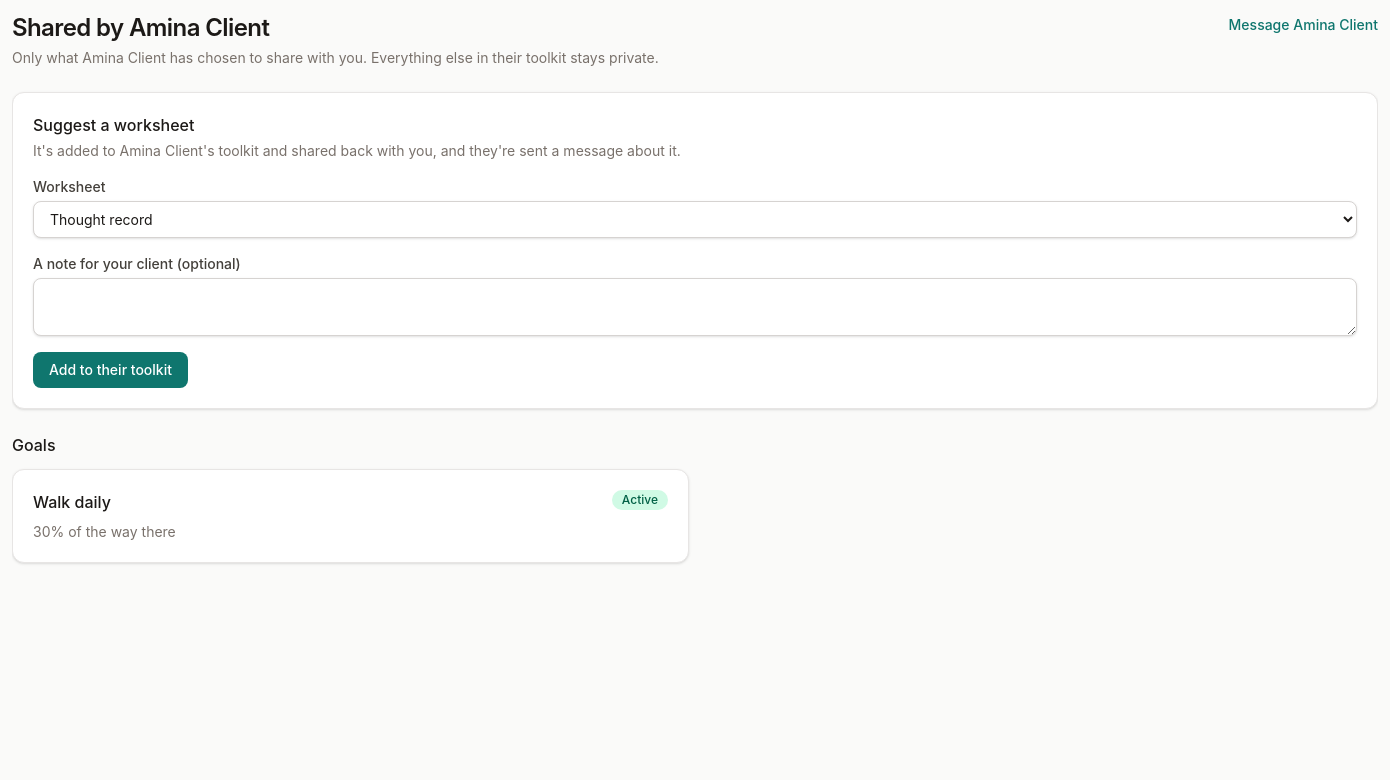
Scenario: ClientSharedPage › shows shared goals and lets the therapist suggest a worksheet
Expected: the text "Walk daily" is shown, [33,490,111,514]
Expected: the text "30% of the way there" is shown, [33,523,176,540]
Select "Sleep diary" in the dropdown labelled "Worksheet" at (695, 220), box [33,201,1357,238]
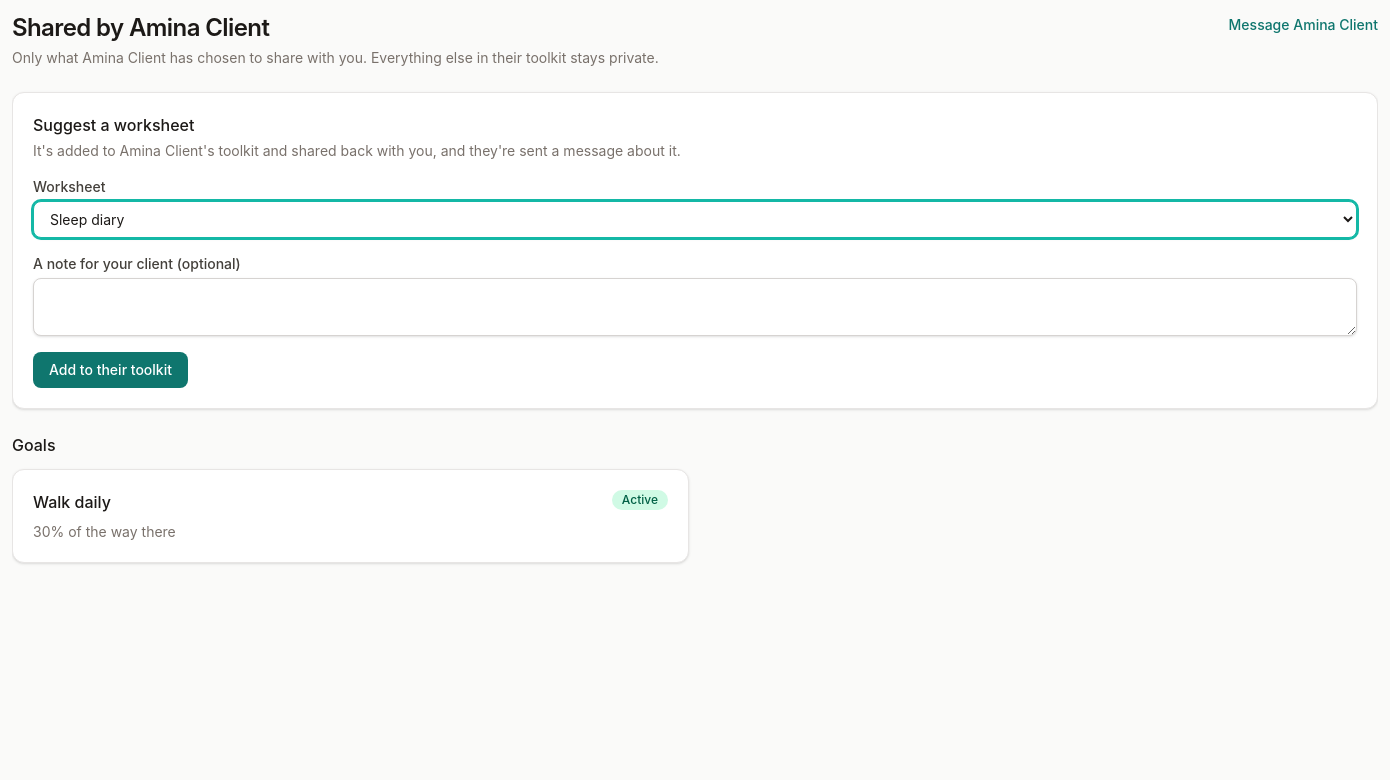
Click the button "Add to their toolkit" at (110, 370), box [33,352,188,388]
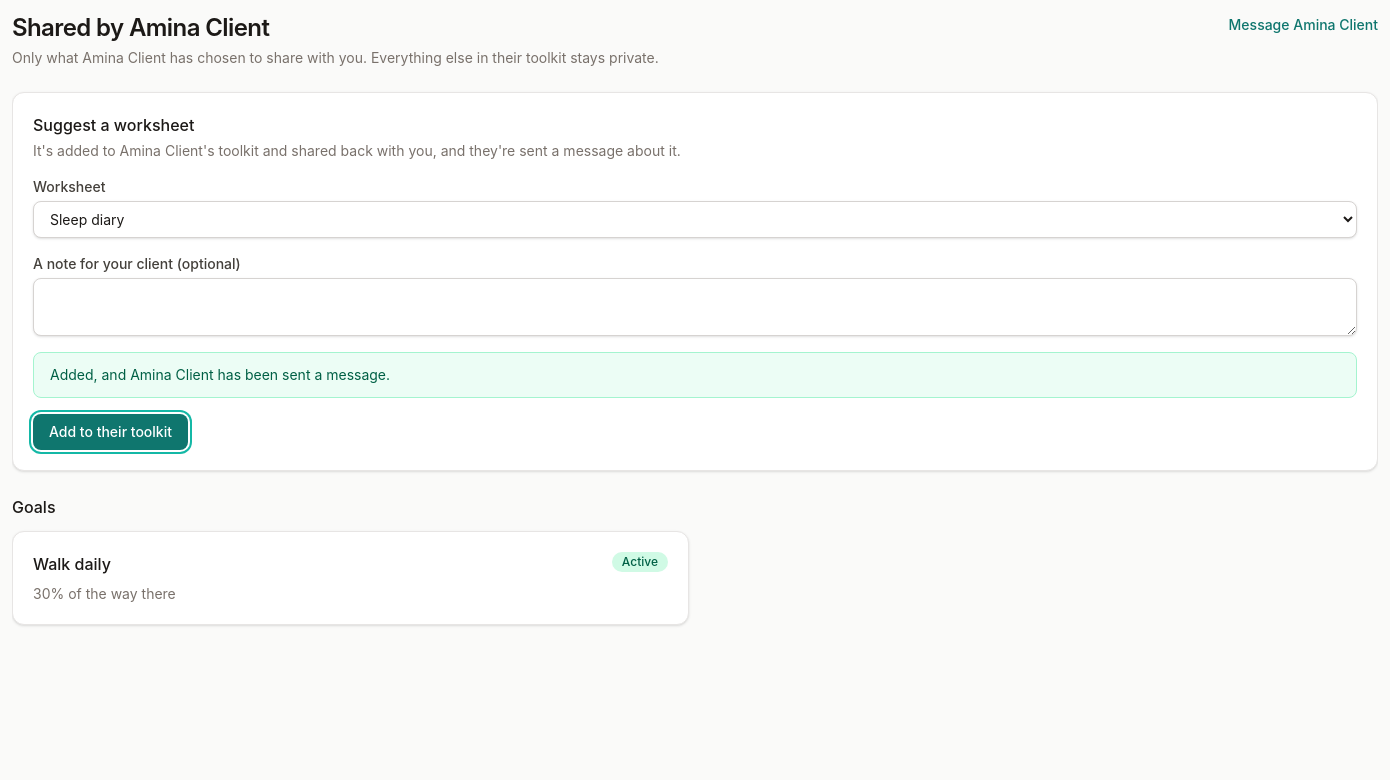
Expected: the text "Added, and Amina Client has been sent a message." is shown, [33,352,1357,398]
